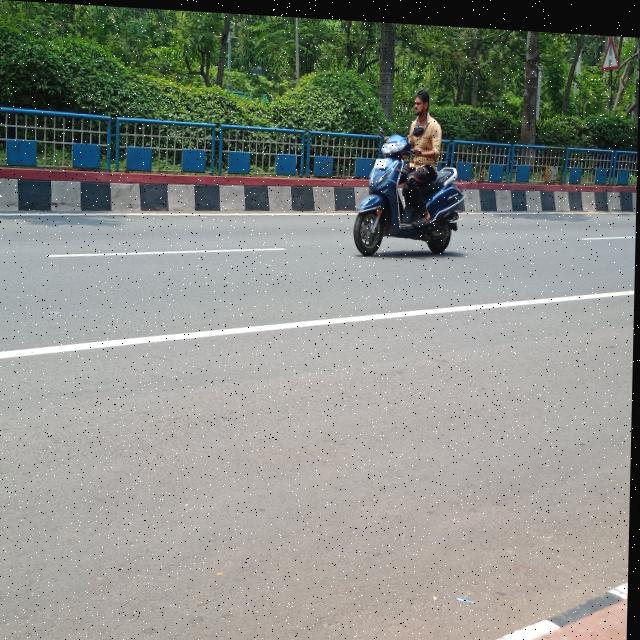bike: (354, 125, 463, 256)
